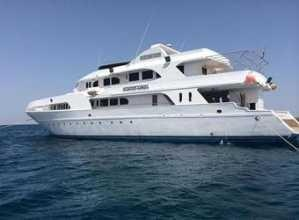yacht: (20, 42, 299, 140)
